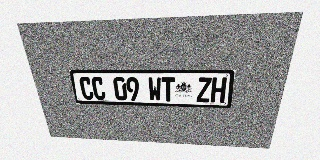0: (113, 77, 128, 100)
9: (126, 77, 140, 101)
C: (79, 77, 94, 100), (91, 77, 106, 100)
H: (210, 77, 227, 103)
T: (161, 77, 175, 102)
W: (148, 77, 162, 101)
Z: (196, 77, 212, 102)
